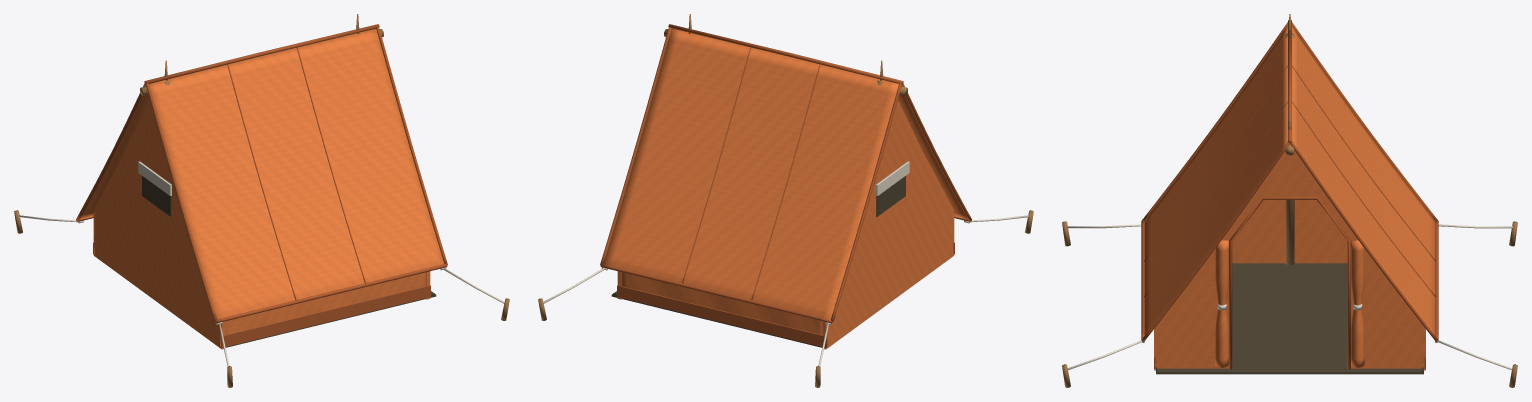
The model's file is C03-tent-v1.glb.
The picture shows the model from 3 angles, left to right: view 1: azimuth 30°, elevation 25°; view 2: azimuth 150°, elevation 25°; view 3: azimuth 270°, elevation 25°; orthographic projection. The views are drawn at different scales.
Visible parts, largest first — view 1: C03_pilot_canvas, C03_pilot_binding, C03_pilot_ground, C03_pilot_cream, C03_pilot_wood; view 2: C03_pilot_canvas, C03_pilot_binding, C03_pilot_ground, C03_pilot_cream, C03_pilot_wood; view 3: C03_pilot_canvas, C03_pilot_ground, C03_pilot_binding, C03_pilot_wood, C03_pilot_cream.
Boxes of the visible parts, left/top/right/bottom form: C03_pilot_canvas: left=79, top=28, right=444, bottom=349; C03_pilot_binding: left=76, top=24, right=447, bottom=347; C03_pilot_ground: left=142, top=176, right=436, bottom=347; C03_pilot_cream: left=18, top=161, right=504, bottom=366; C03_pilot_wood: left=14, top=14, right=509, bottom=387; C03_pilot_canvas: left=603, top=28, right=970, bottom=349; C03_pilot_binding: left=600, top=24, right=971, bottom=347; C03_pilot_ground: left=611, top=176, right=905, bottom=347; C03_pilot_cream: left=543, top=161, right=1029, bottom=366; C03_pilot_wood: left=538, top=14, right=1033, bottom=387; C03_pilot_canvas: left=1144, top=26, right=1436, bottom=370; C03_pilot_ground: left=1156, top=263, right=1423, bottom=374; C03_pilot_binding: left=1141, top=20, right=1438, bottom=369; C03_pilot_wood: left=1062, top=14, right=1517, bottom=387; C03_pilot_cream: left=1067, top=224, right=1512, bottom=370.
Bounding box in the file's own units: 4.06 × 3.3 × 5.38.
5 materials, 2 textured.
